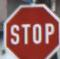Stop sign: (0, 1, 59, 58)
